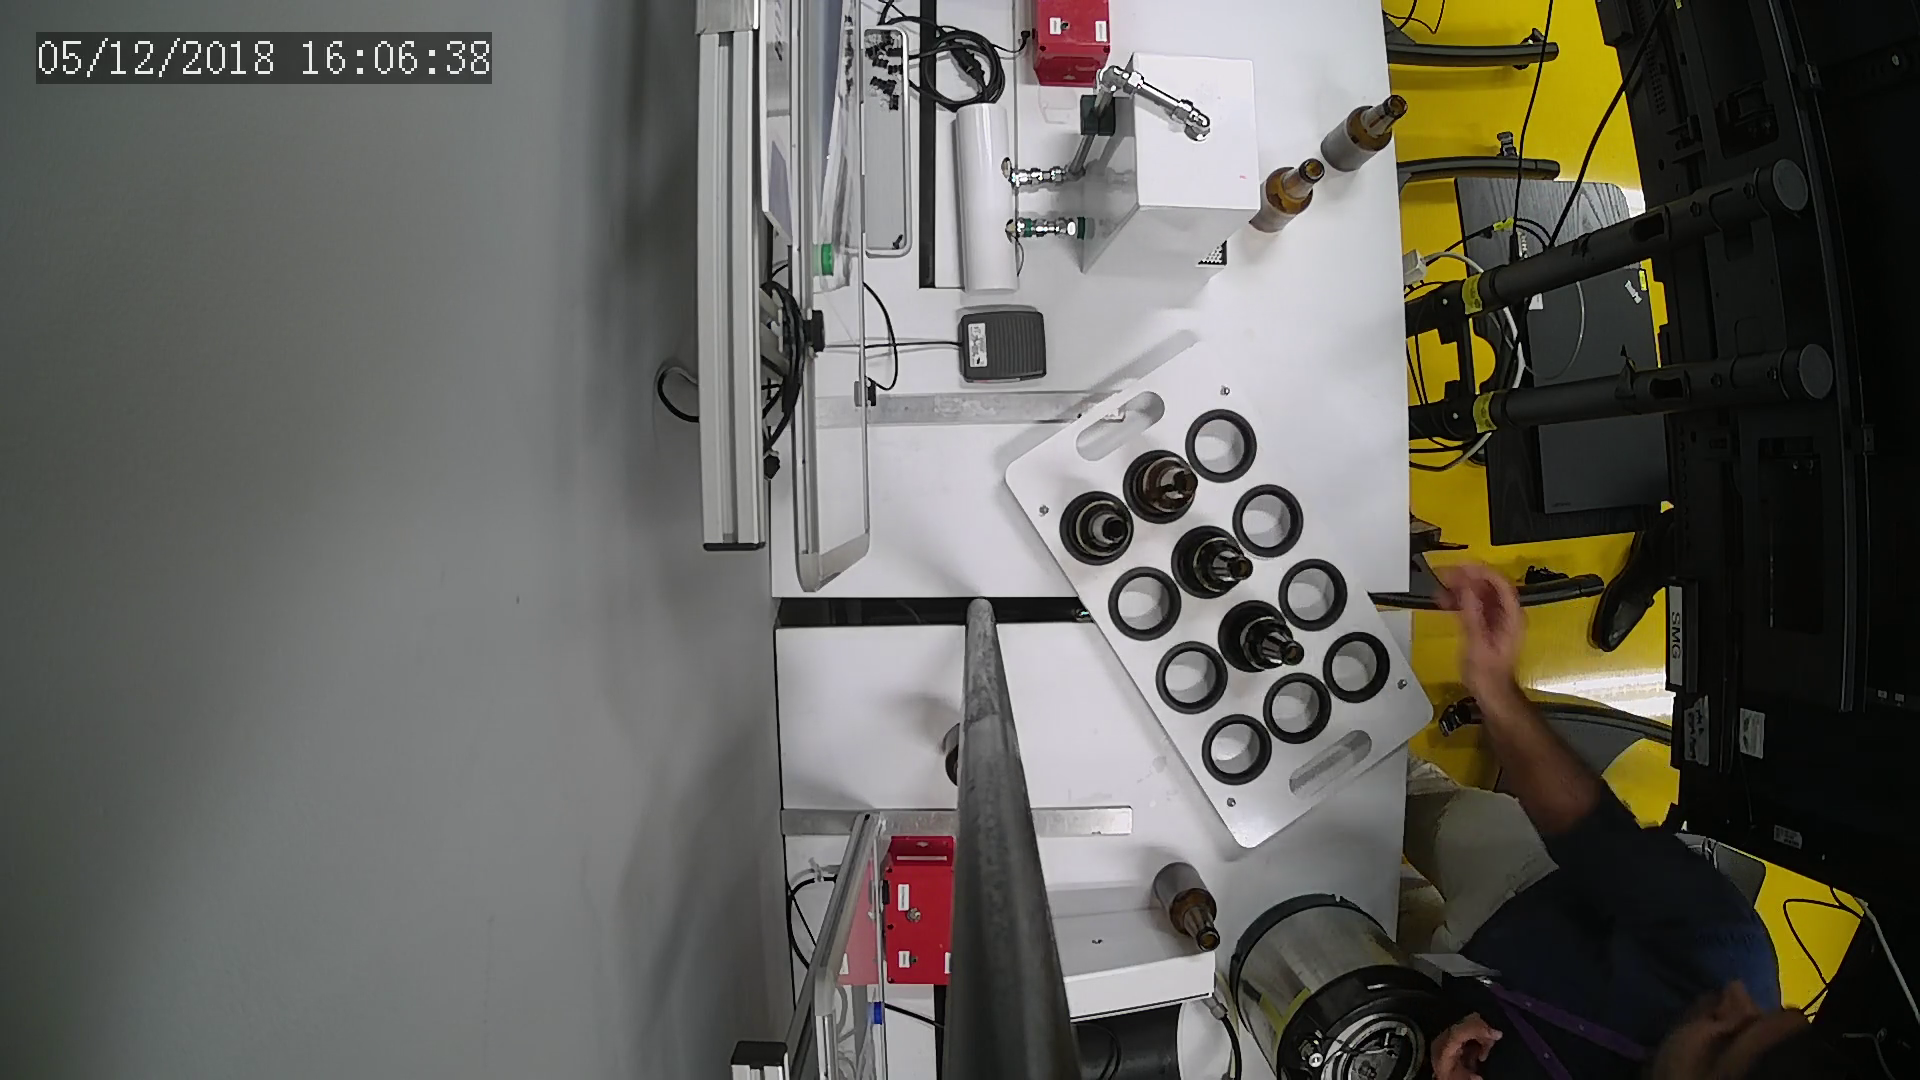filled_bottle: (1220, 603, 1308, 674), (1060, 495, 1139, 566), (1172, 527, 1254, 595), (1133, 455, 1201, 524)
trolley: (1001, 336, 1435, 855)
unfilled_bottle: (1320, 95, 1406, 171), (1151, 862, 1220, 955), (1253, 156, 1324, 233)
